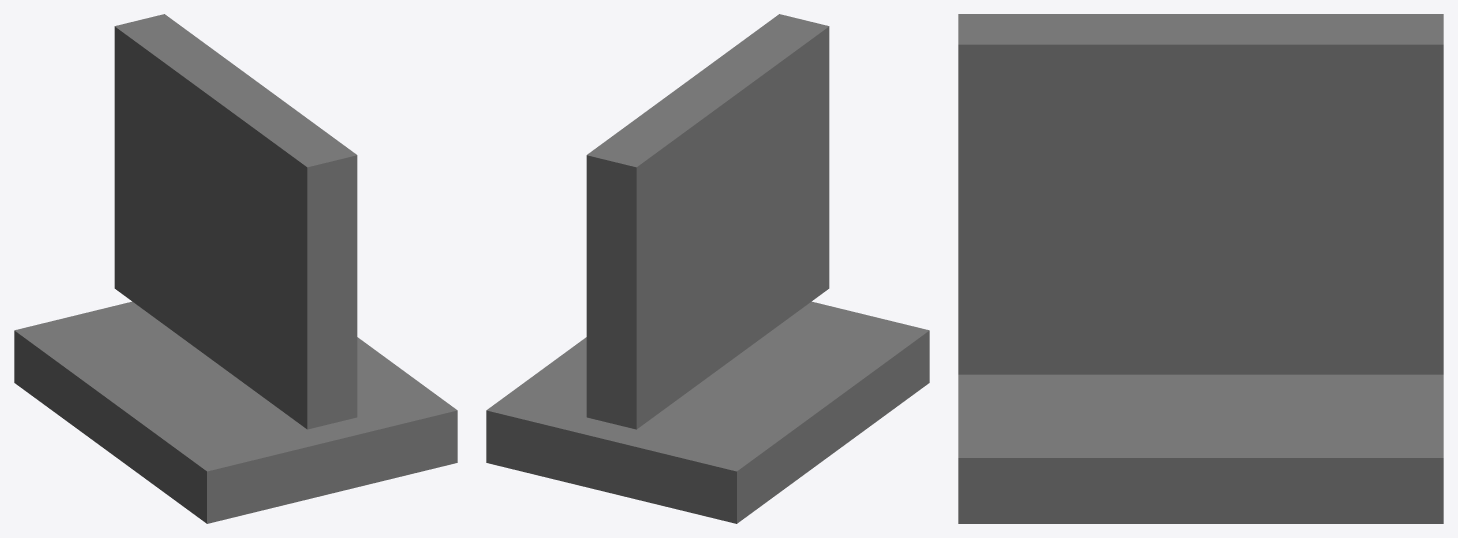
The model's file is Т1_Кромки.glb.
The picture shows the model from 3 angles, left to right: view 1: azimuth 30°, elevation 25°; view 2: azimuth 150°, elevation 25°; view 3: azimuth 270°, elevation 25°; orthographic projection. The views are drawn at different scales.
Visible parts, largest first — view 1: node_id3; view 2: node_id3; view 3: node_id3.
Part boxes in pixels (box(x1,y1,x2,y2)): node_id3: box(14, 14, 457, 523); node_id3: box(486, 14, 929, 523); node_id3: box(958, 14, 1443, 523).
Size of the model in its own units: 0.4042 by 0.512 by 0.5389.
Materials: 1 (1 with a texture image).
